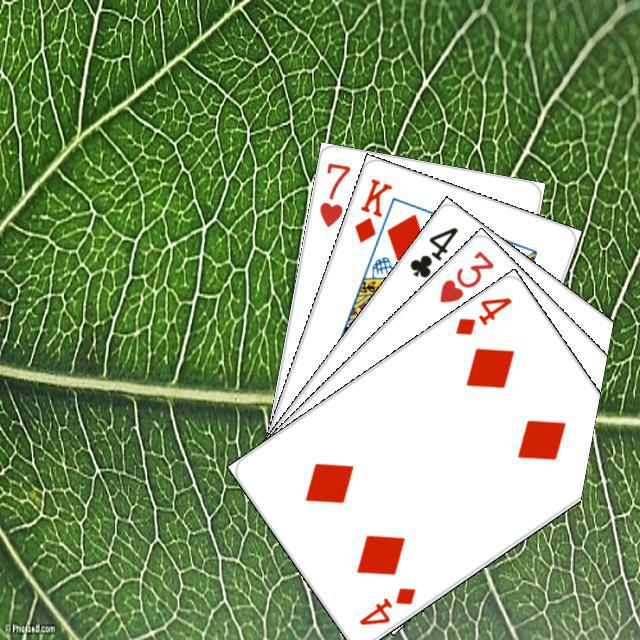3h: (434, 245, 496, 305)
4c: (404, 221, 460, 280)
4d: (450, 292, 514, 337), (354, 582, 418, 627)
7h: (314, 157, 353, 229)
Kd: (349, 173, 395, 245)
